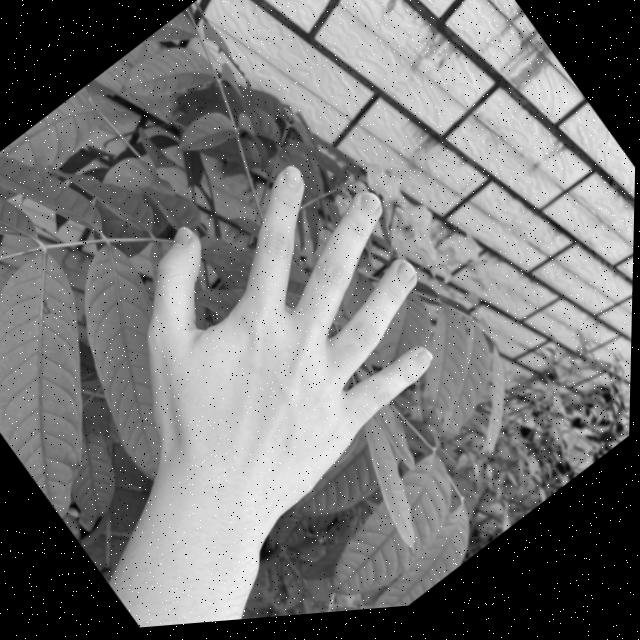hand: (76, 109, 500, 557)
